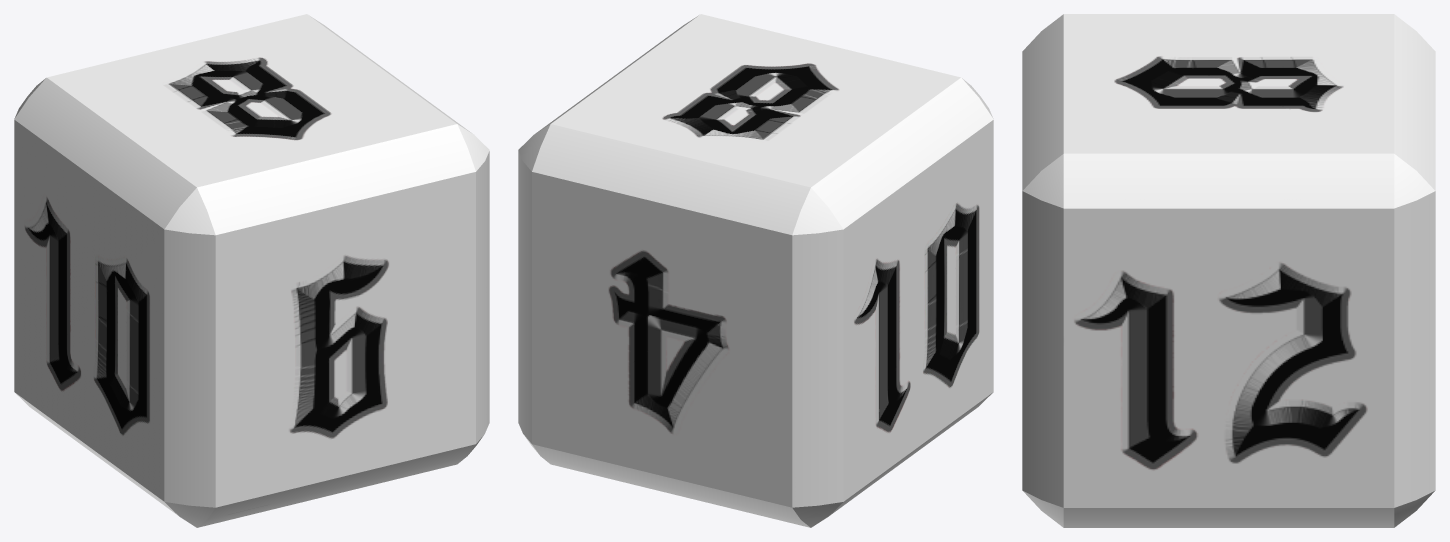
The picture shows the model from 3 angles, left to right: view 1: azimuth 30°, elevation 25°; view 2: azimuth 150°, elevation 25°; view 3: azimuth 270°, elevation 25°; orthographic projection. The views are drawn at different scales.
Parts seen in each view (by area): view 1: TEMPORARY_IMPORT_NAMESPACE__T_C_R____6_ﾊ:pCube1; view 2: TEMPORARY_IMPORT_NAMESPACE__T_C_R____6_ﾊ:pCube1; view 3: TEMPORARY_IMPORT_NAMESPACE__T_C_R____6_ﾊ:pCube1.
Part boxes in pixels (left/top/right/bottom): TEMPORARY_IMPORT_NAMESPACE__T_C_R____6_ﾊ:pCube1: left=14, top=14, right=489, bottom=527; TEMPORARY_IMPORT_NAMESPACE__T_C_R____6_ﾊ:pCube1: left=518, top=14, right=993, bottom=527; TEMPORARY_IMPORT_NAMESPACE__T_C_R____6_ﾊ:pCube1: left=1022, top=14, right=1435, bottom=527.
Size of the model in its own units: 20 by 20 by 20.
Materials: 1 (1 with a texture image).
